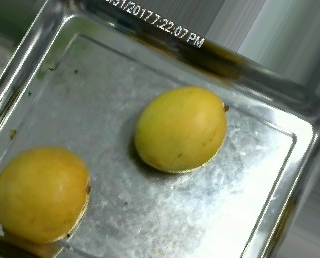Mango: (0, 147, 90, 244), (132, 87, 225, 171)
